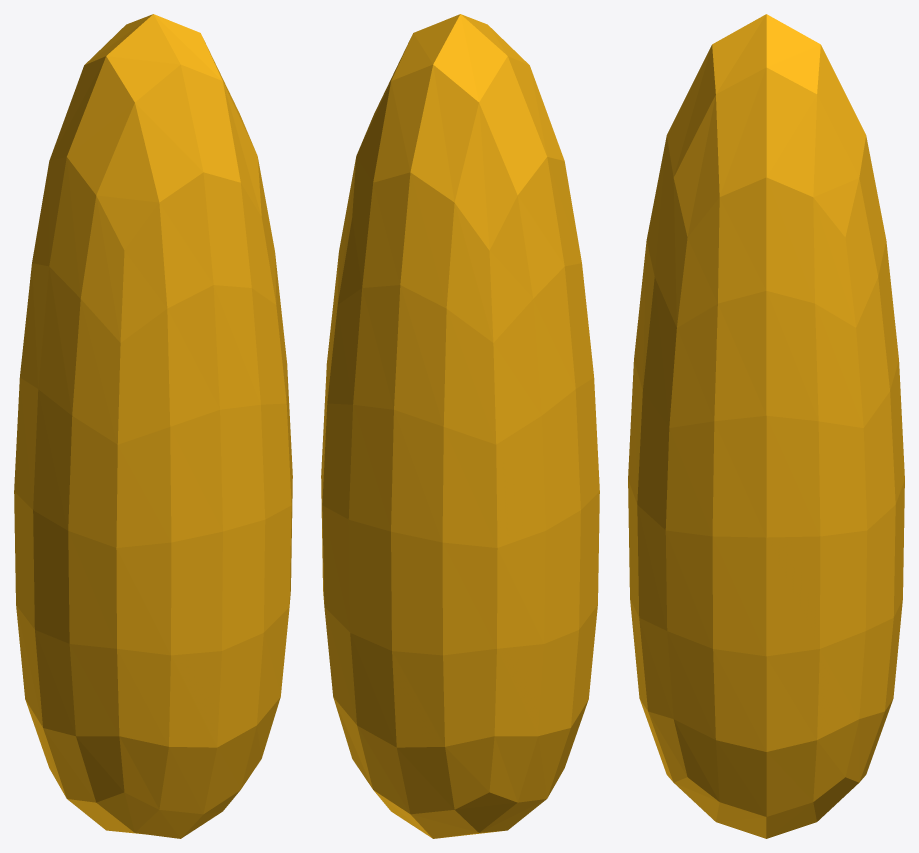
Rendered from bridge-corn.glb.
The picture shows the model from 3 angles, left to right: view 1: azimuth 30°, elevation 25°; view 2: azimuth 150°, elevation 25°; view 3: azimuth 270°, elevation 25°; orthographic projection.
Visible parts, largest first — view 1: Object_4; view 2: Object_4; view 3: Object_4.
Part boxes in pixels (left/top/right/bottom): Object_4: left=14, top=14, right=292, bottom=838; Object_4: left=321, top=14, right=599, bottom=838; Object_4: left=628, top=14, right=904, bottom=838.
Bounding box in the file's own units: 0.0552 × 0.18 × 0.0552.
